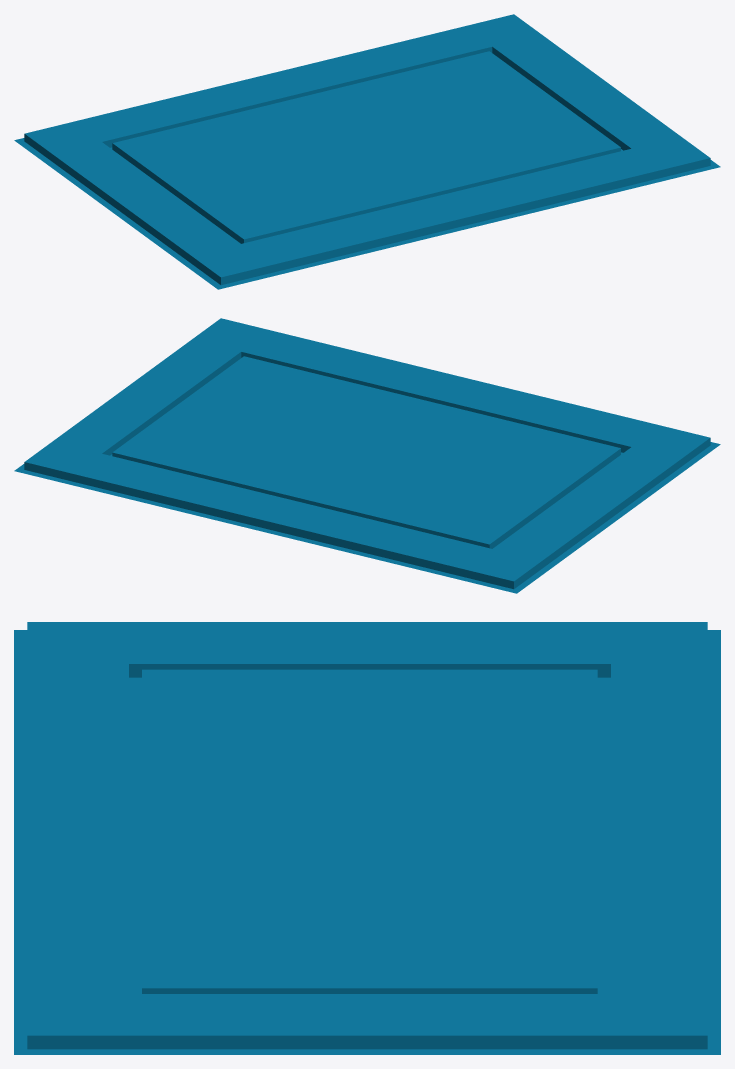
The model's file is Floor5.fbx.
3 views of the same model, one above another, from view 1: azimuth 30°, elevation 25°; view 2: azimuth 150°, elevation 25°; view 3: azimuth 270°, elevation 25° (orthographic). The views are drawn at different scales.
Parts seen in each view (by area): view 1: fLOOR; view 2: fLOOR; view 3: fLOOR.
Boxes of the visible parts, x1=… form: fLOOR: x1=14, y1=14, x2=720, y2=289; fLOOR: x1=14, y1=318, x2=720, y2=593; fLOOR: x1=14, y1=622, x2=720, y2=1054.
Bounding box in the file's own units: 200 × 2.99 × 141.
